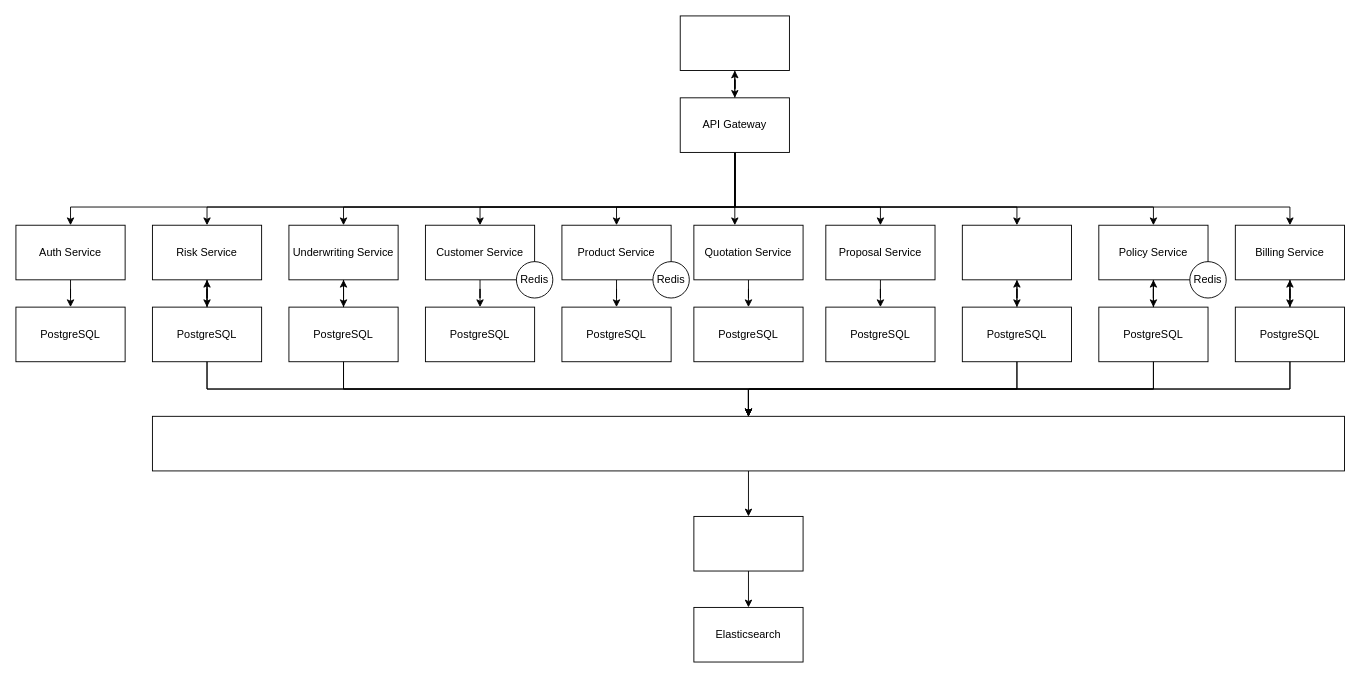
Some shapes in this 1360 by 678 pixel diagram are drawn without their labels. The shapes that lost their labels are listed below. From the top down, each one's centre as x and y in pixels, then its label:
point 734,43: Eureka
point 1016,252: Claim Service
point 748,443: Apache Kafka
point 748,543: Audit Service
